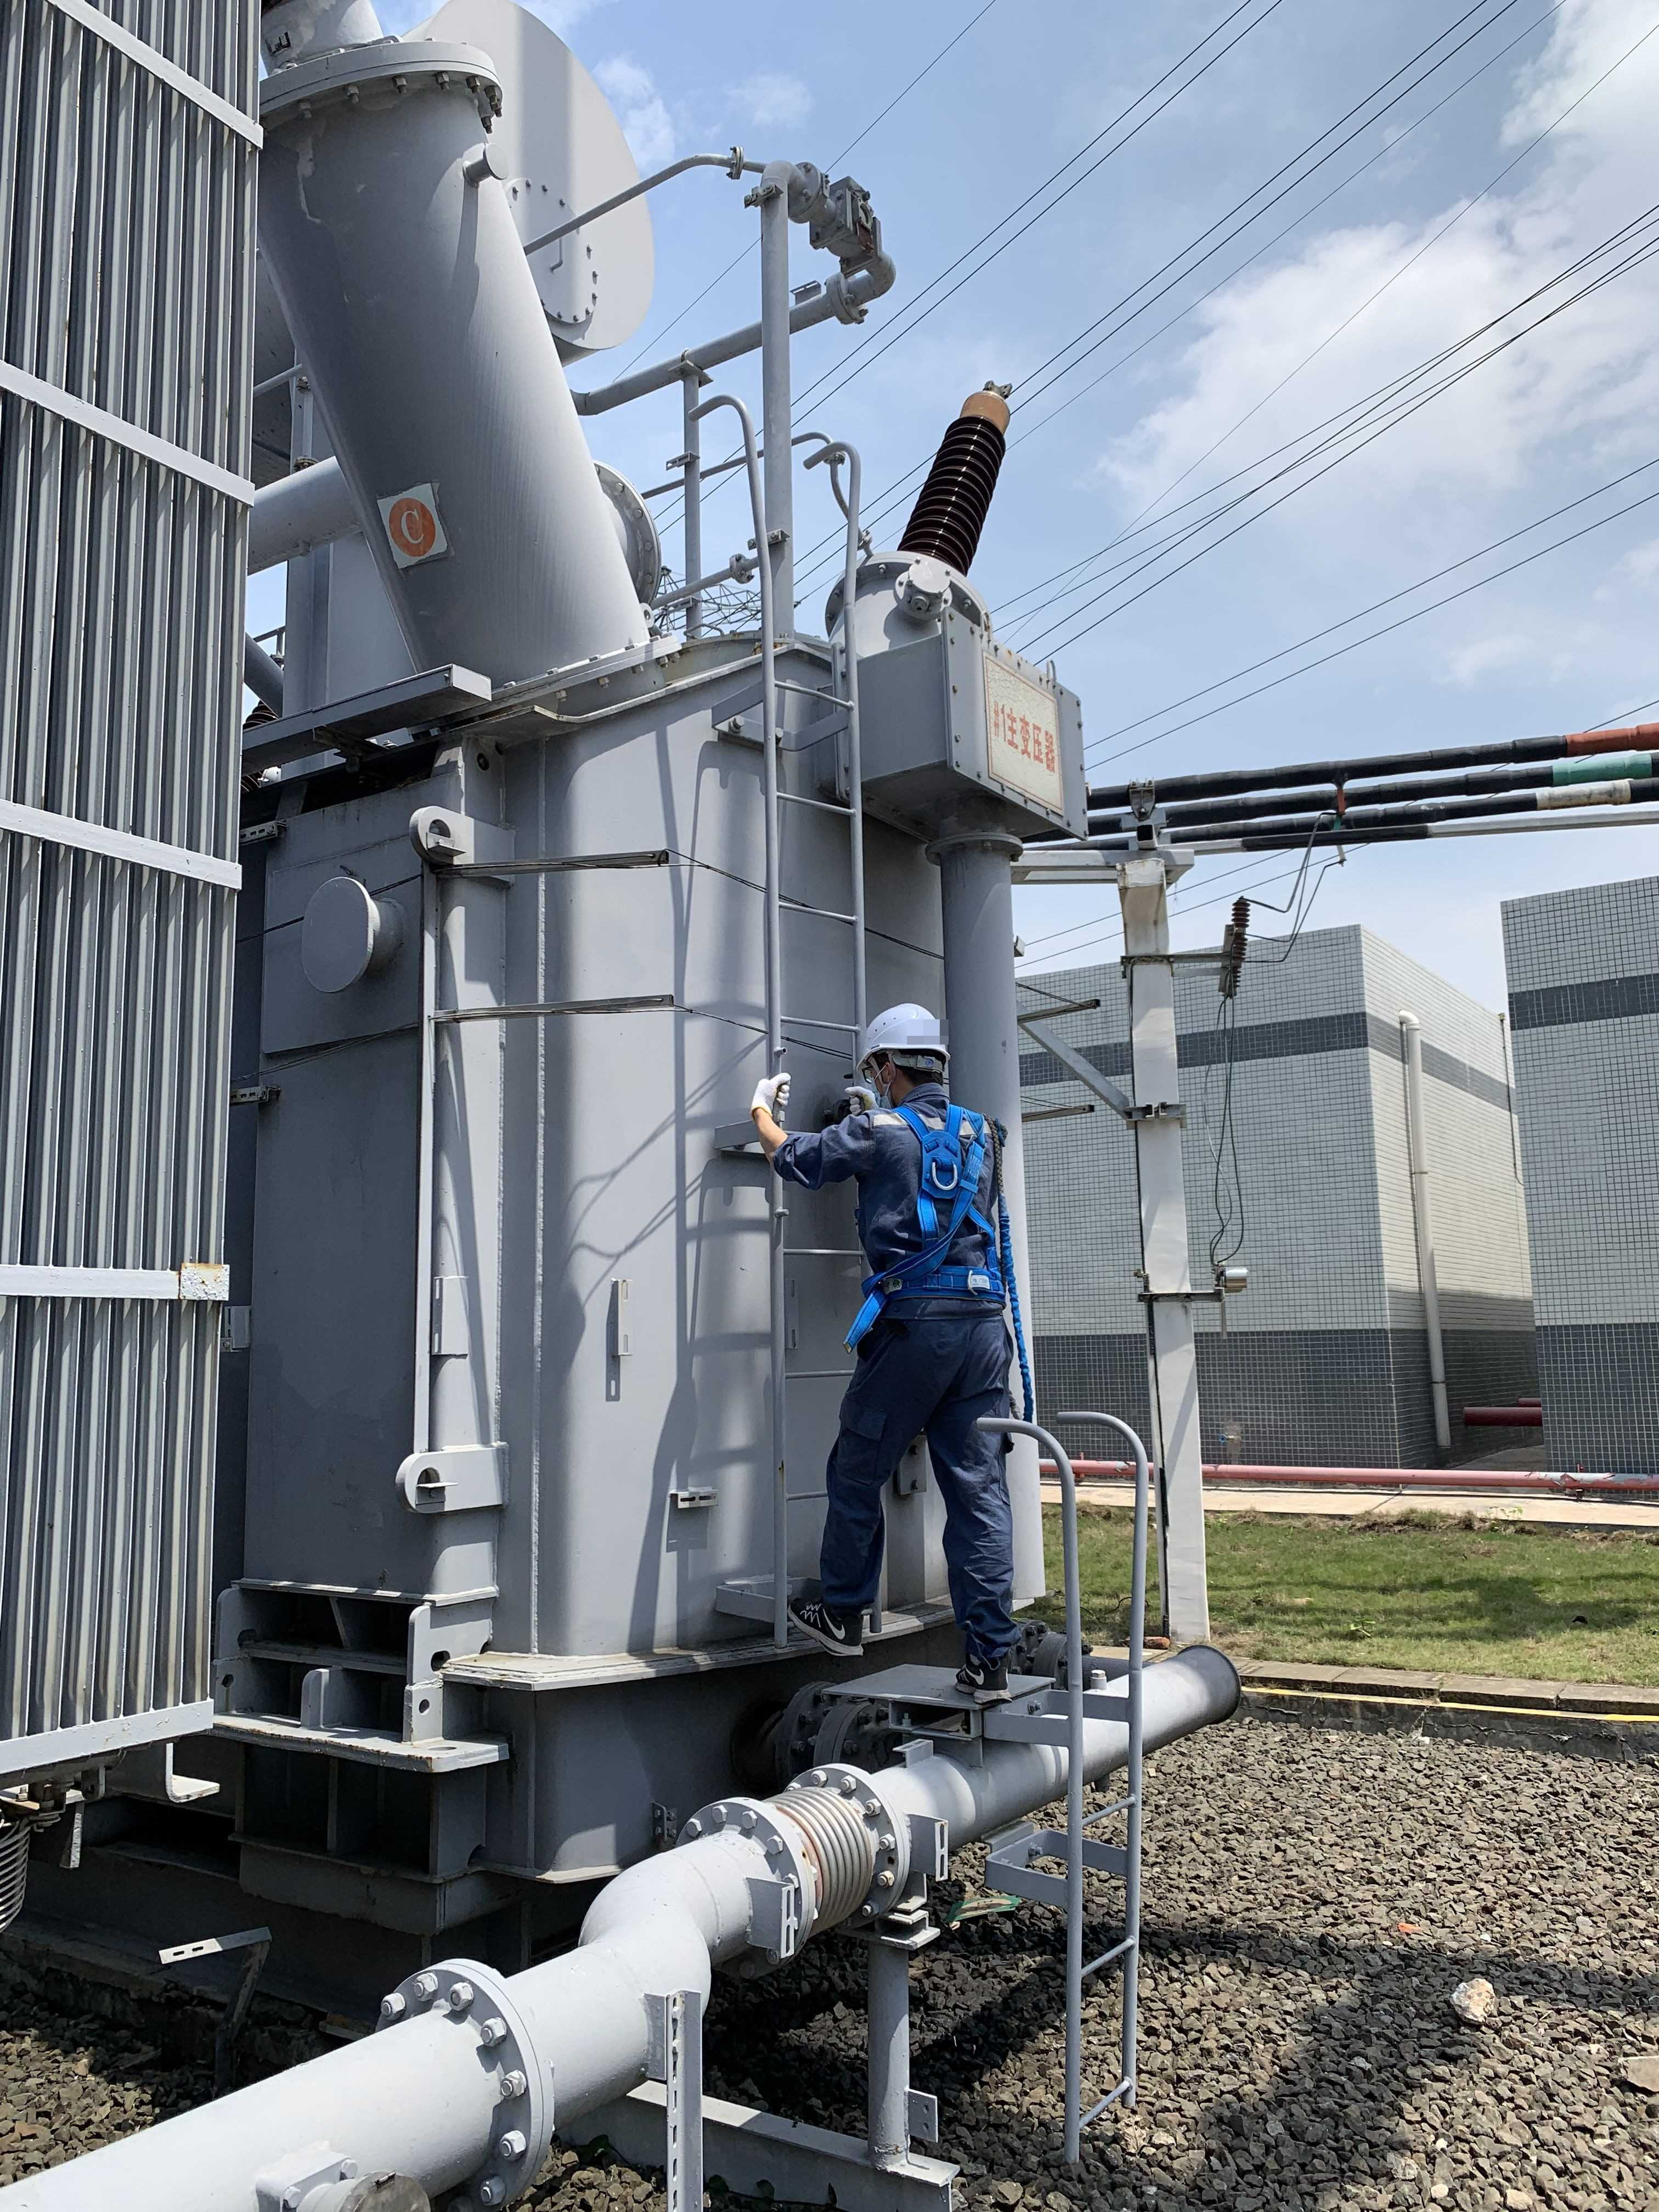downsuit: (812, 1329, 1025, 1639)
upsuit: (786, 1094, 1018, 1306)
wrongtop: (749, 1104, 798, 1172)
